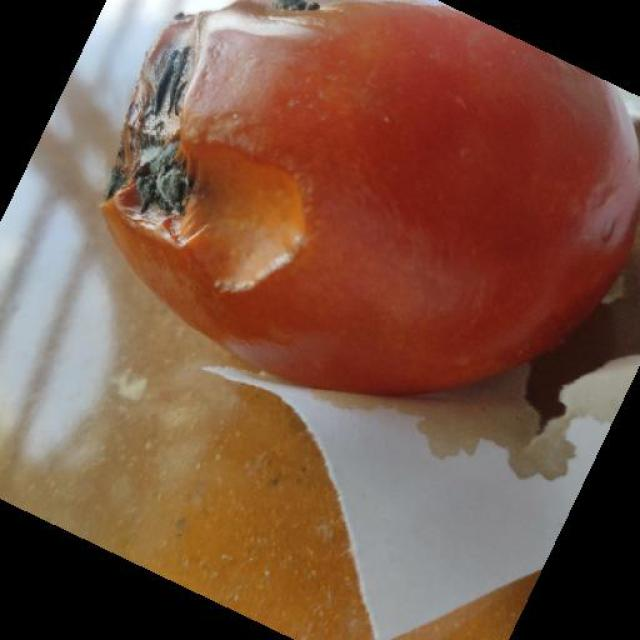Stale_tomato: (135, 0, 640, 384)
